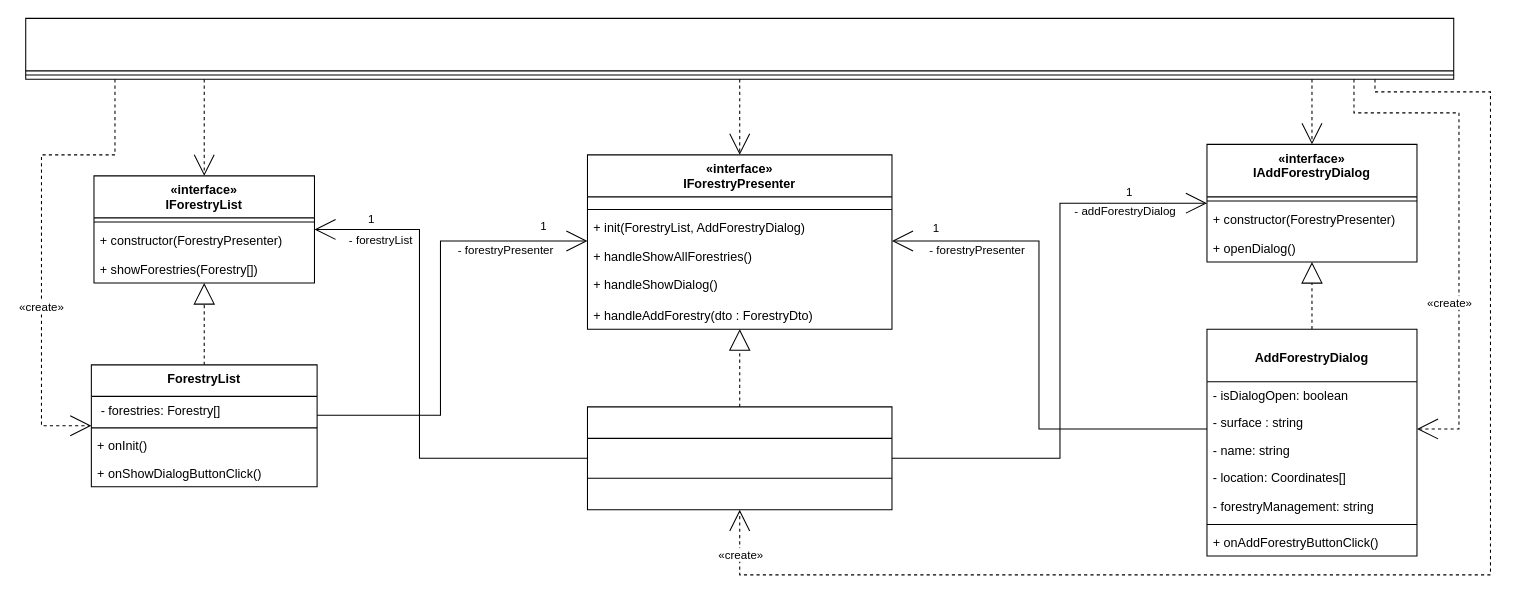
This 1530x614 diagram has some shape labels left out. Here are the shapes that lost their labels. From the top down, the centre of each, then its label:
At (739,48): "ForestryWindow".
At (739,458): "ForestryPresenter".
